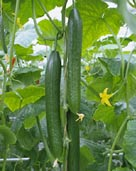cucumber: (45, 52, 66, 159), (63, 8, 83, 117), (63, 110, 81, 170)
